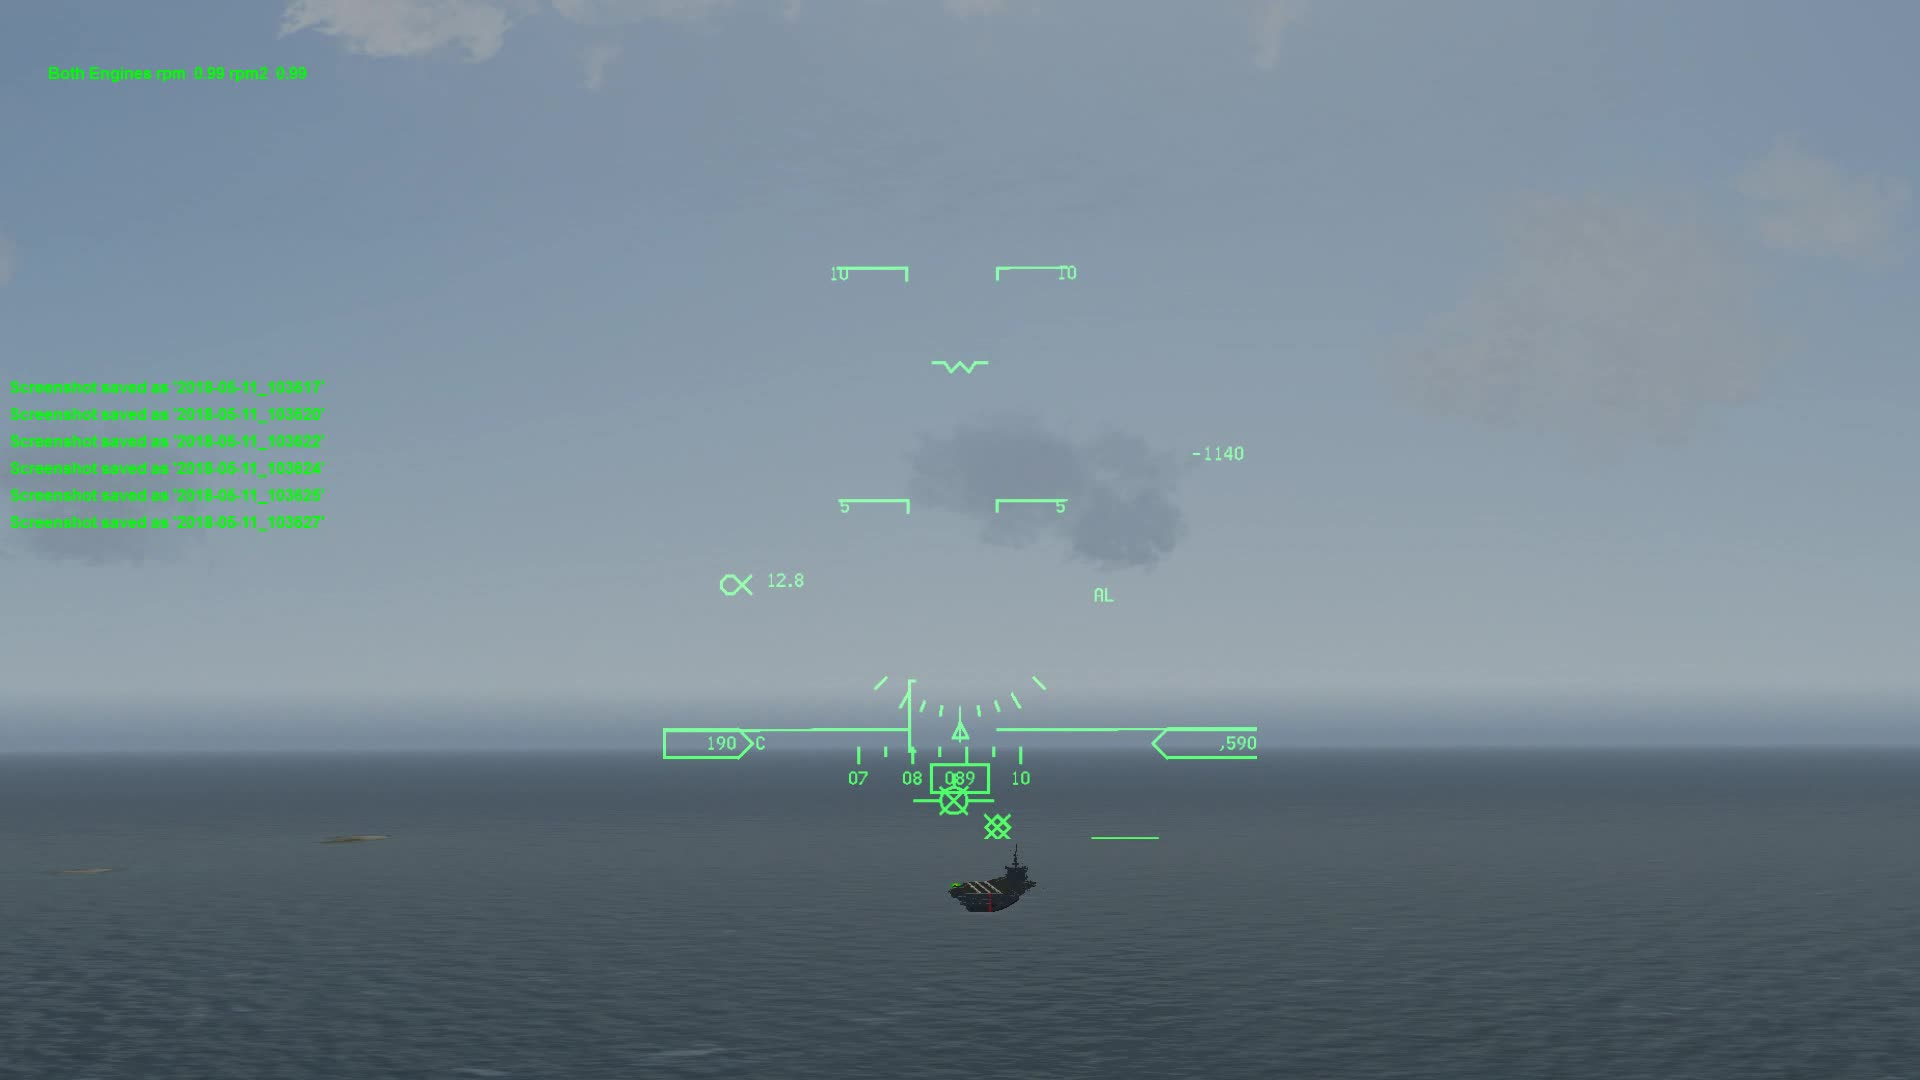speed vector: (913, 785, 1005, 811)
